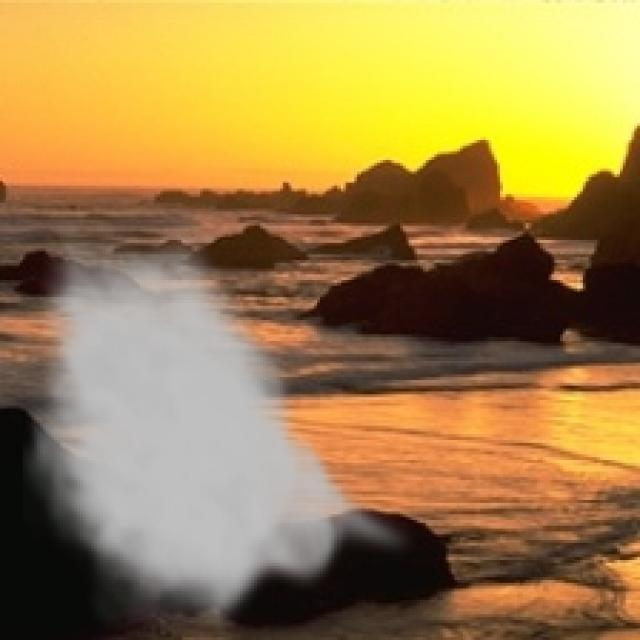Smoke: (22, 217, 418, 634)
